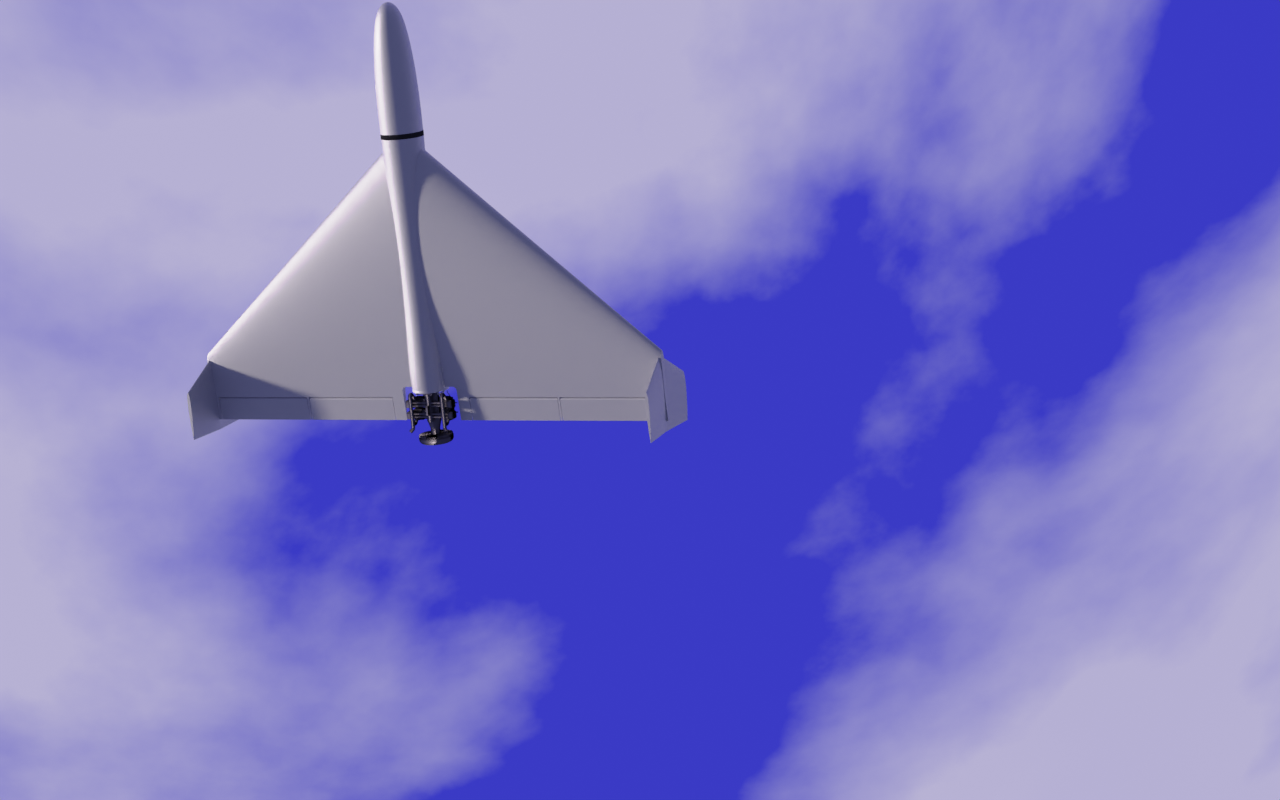shahed: (187, 2, 690, 447)
